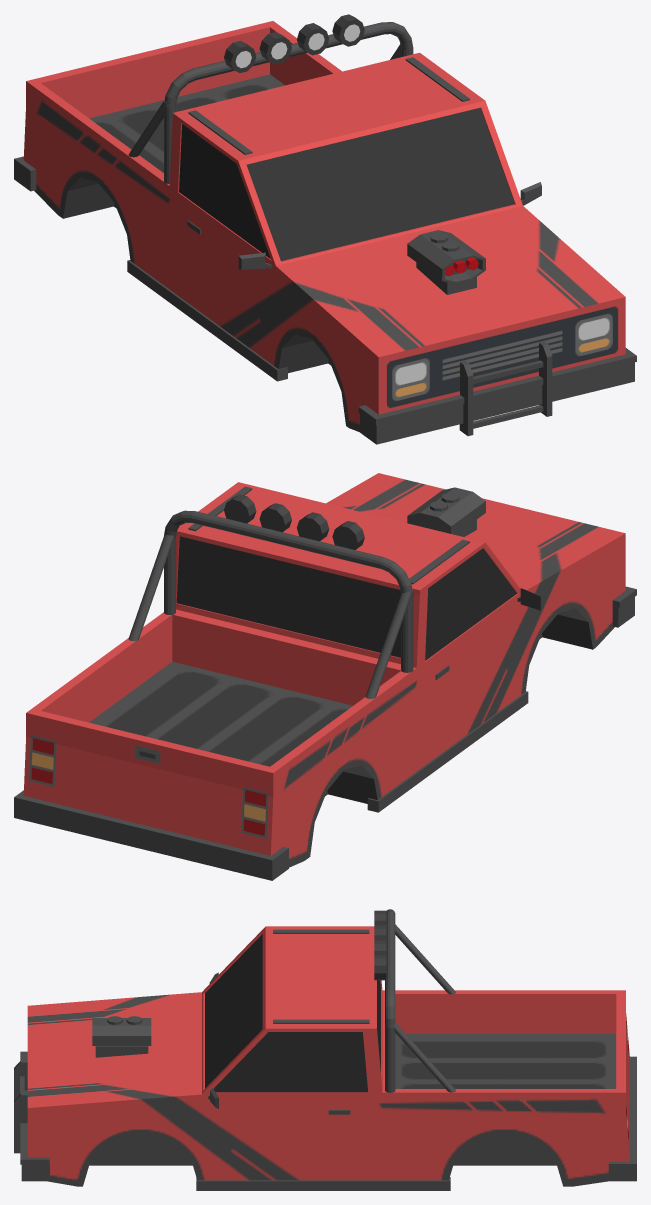
File: Car_RedPickup_Chassis.glb
3 views of the same model, one above another, from view 1: azimuth 30°, elevation 25°; view 2: azimuth 150°, elevation 25°; view 3: azimuth 270°, elevation 25° (orthographic). The views are drawn at different scales.
Parts seen in each view (by area): view 1: Object_141.001; view 2: Object_141.001; view 3: Object_141.001.
Boxes of the visible parts, left/top/right/bottom form: Object_141.001: left=14, top=14, right=636, bottom=444; Object_141.001: left=14, top=473, right=636, bottom=880; Object_141.001: left=14, top=909, right=636, bottom=1190.
Size of the model in its own units: 3.06 by 2.33 by 6.43.
1 material, 1 textured.
